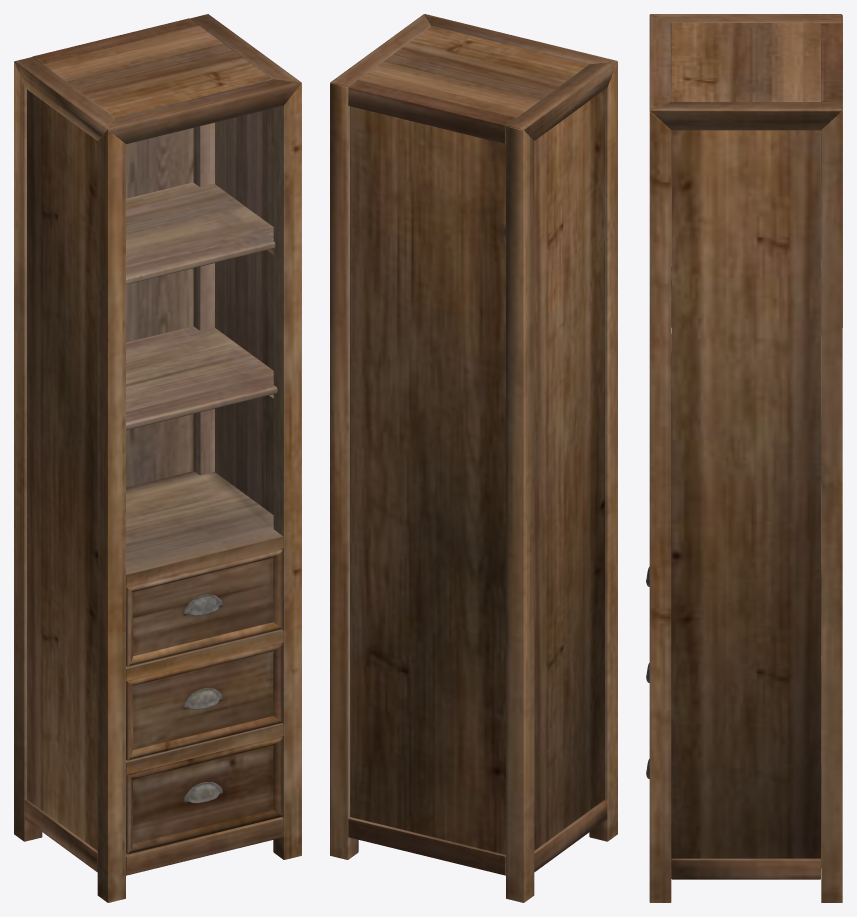
The picture shows the model from 3 angles, left to right: view 1: azimuth 30°, elevation 25°; view 2: azimuth 150°, elevation 25°; view 3: azimuth 270°, elevation 25°; orthographic projection. The views are drawn at different scales.
Parts seen in each view (by area): view 1: visual_RootNode; view 2: visual_RootNode; view 3: visual_RootNode.
Part boxes in pixels (box(x1,y1,x2,y2)): visual_RootNode: box(14, 14, 301, 902); visual_RootNode: box(330, 14, 617, 902); visual_RootNode: box(646, 14, 842, 902).
Bounding box in the file's own units: 0.4996 × 0.4276 × 1.9.
1 material, 1 textured.
